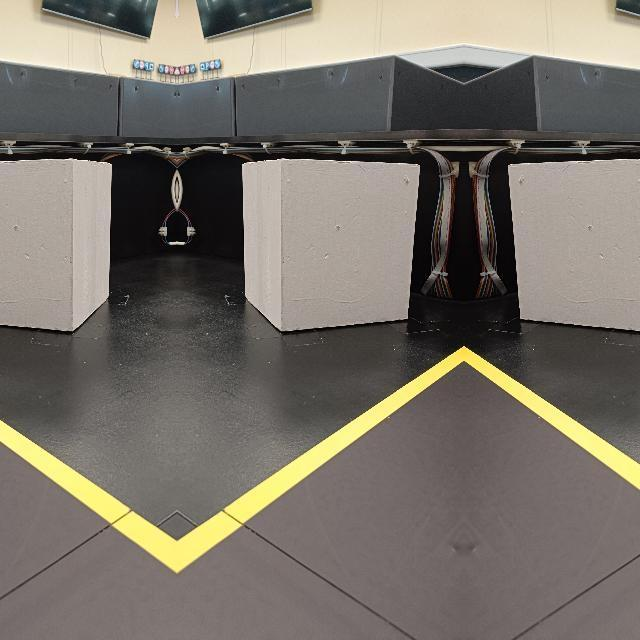obstacle: (242, 159, 420, 335), (507, 159, 640, 335), (0, 159, 110, 335)
